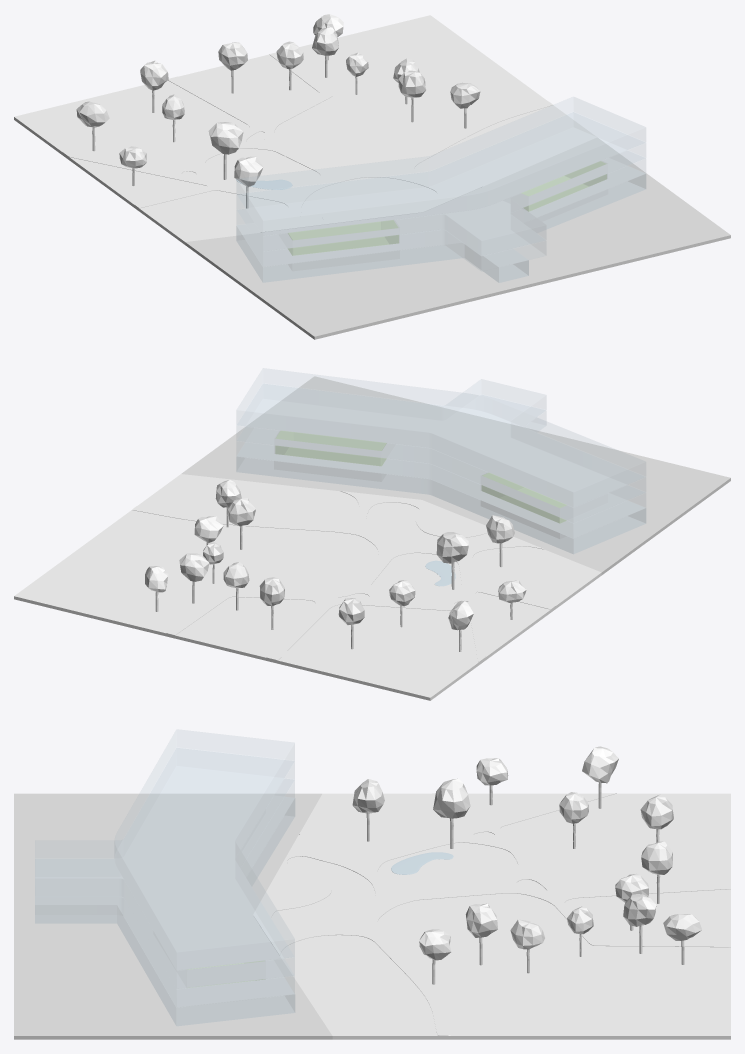
File: campus.gltf
The picture shows the model from 3 angles, top to bottom: view 1: azimuth 30°, elevation 25°; view 2: azimuth 150°, elevation 25°; view 3: azimuth 270°, elevation 25°; orthographic projection. The views are drawn at different scales.
Visible parts, largest first — view 1: park, building_base, floor_2, floor_3, floor_1, paths_Retopo, floor_0, room2, room1, tree010, tree013, tree012 (+8 smaller); view 2: park, building_base, floor_2, floor_3, floor_1, floor_0, paths_Retopo, room1, room2, tree010, tree01, tree013 (+10 smaller); view 3: park, building_base, floor_2, floor_3, paths_Retopo, floor_1, floor_0, tree010, tree012, tree005, tree01, tree007 (+10 smaller).
Boxes of the visible parts, bbox=[...] form: park: bbox=[14, 15, 596, 244]; building_base: bbox=[185, 137, 730, 339]; floor_2: bbox=[237, 112, 645, 255]; floor_3: bbox=[237, 97, 645, 235]; floor_1: bbox=[237, 151, 645, 270]; paths_Retopo: bbox=[62, 52, 552, 232]; floor_0: bbox=[236, 166, 645, 282]; room2: bbox=[288, 220, 398, 255]; room1: bbox=[521, 161, 606, 211]; tree010: bbox=[208, 122, 243, 179]; tree013: bbox=[234, 156, 263, 208]; tree012: bbox=[76, 101, 109, 151]; park: bbox=[14, 474, 601, 700]; building_base: bbox=[181, 376, 730, 575]; floor_2: bbox=[237, 379, 645, 522]; floor_3: bbox=[237, 368, 645, 506]; floor_1: bbox=[237, 395, 645, 537]; floor_0: bbox=[236, 442, 645, 553]; paths_Retopo: bbox=[132, 491, 555, 662]; room1: bbox=[275, 431, 386, 465]; room2: bbox=[482, 473, 566, 523]; tree010: bbox=[436, 532, 468, 589]; tree01: bbox=[179, 553, 209, 603]; tree013: bbox=[486, 515, 514, 567]; park: bbox=[253, 793, 730, 1039]; building_base: bbox=[14, 793, 332, 1039]; floor_2: bbox=[35, 748, 294, 988]; floor_3: bbox=[115, 730, 294, 969]; paths_Retopo: bbox=[253, 793, 730, 1035]; floor_1: bbox=[35, 779, 294, 1006]; floor_0: bbox=[35, 797, 294, 1025]; tree010: bbox=[433, 778, 470, 848]; tree012: bbox=[582, 746, 618, 808]; tree005: bbox=[465, 903, 497, 965]; tree01: bbox=[623, 894, 656, 953]; tree007: bbox=[641, 841, 672, 903].
Bounding box in the file's own units: 2.8 × 0.42 × 3.5.
6 materials, 2 textured.
